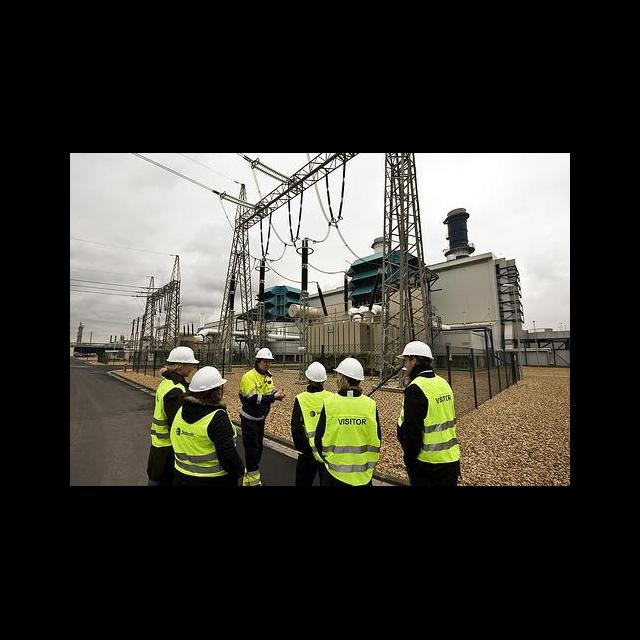Hardhat: (187, 366, 228, 395), (333, 356, 365, 382), (165, 345, 199, 366), (397, 341, 433, 360), (306, 361, 327, 385), (256, 346, 275, 359)
NO-Mask: (178, 368, 193, 376), (256, 364, 269, 372), (405, 365, 416, 374)
Person: (396, 341, 463, 485), (169, 366, 244, 486), (315, 357, 382, 486), (146, 345, 198, 485), (238, 346, 286, 486), (293, 360, 335, 486)
Safety Vest: (321, 393, 380, 487), (400, 375, 461, 463), (170, 405, 236, 479), (296, 390, 330, 462), (151, 378, 185, 449), (240, 369, 273, 421)
